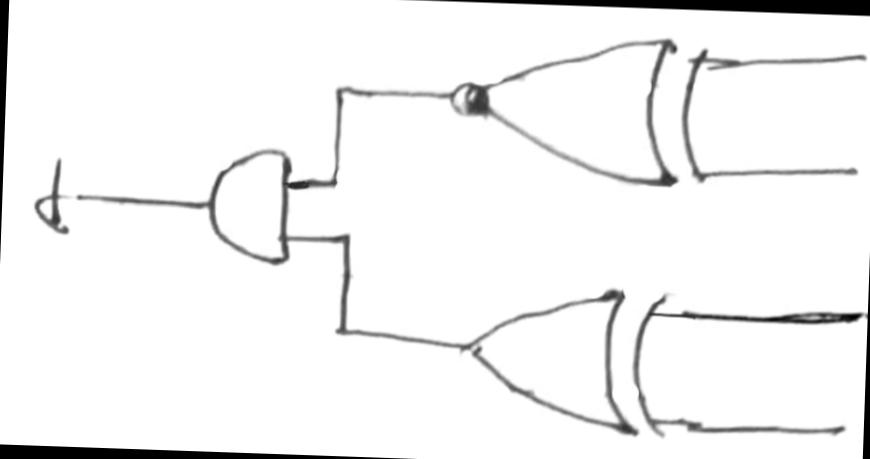and: (194, 140, 301, 272)
xnor: (432, 22, 722, 197)
xor: (447, 274, 678, 446)
